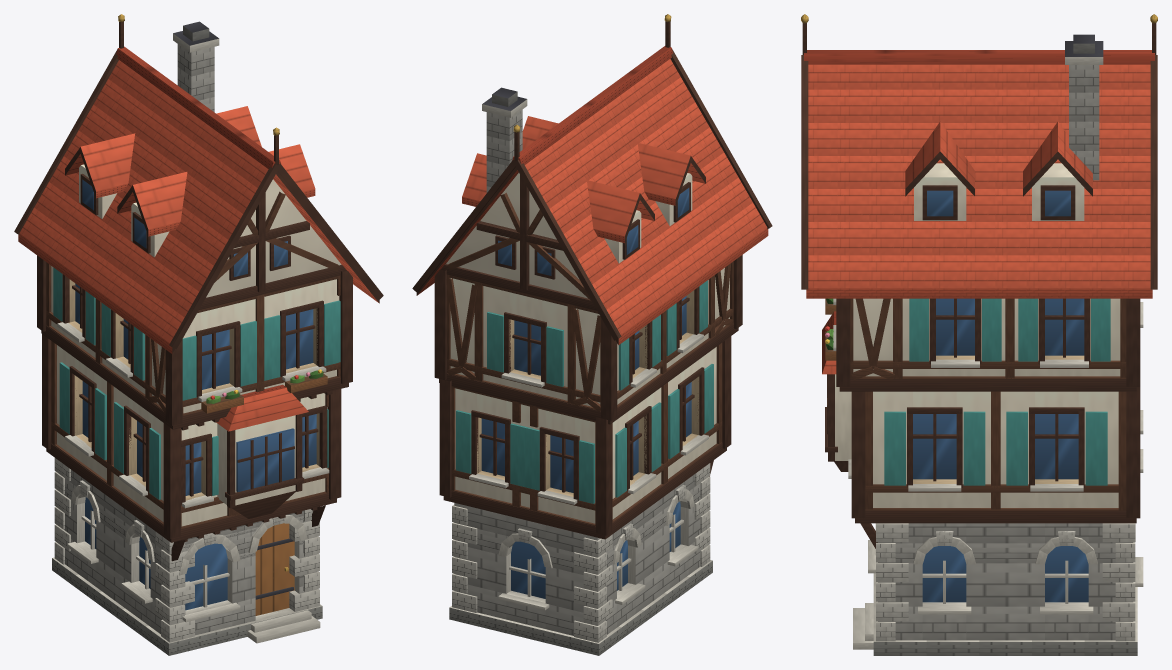
The model's file is bld_house_a.glb.
3 views of the same model, side by side, from view 1: azimuth 30°, elevation 25°; view 2: azimuth 150°, elevation 25°; view 3: azimuth 270°, elevation 25° (orthographic). The views are drawn at different scales.
Visible parts, largest first — view 1: bld_house_a; view 2: bld_house_a; view 3: bld_house_a.
Boxes of the visible parts, box(x1,y1,x2,y2) form: bld_house_a: box(14, 14, 383, 655); bld_house_a: box(412, 14, 772, 655); bld_house_a: box(801, 14, 1157, 655).
Size of the model in its own units: 6.32 by 15.17 by 8.18.
1 material, 1 textured.
